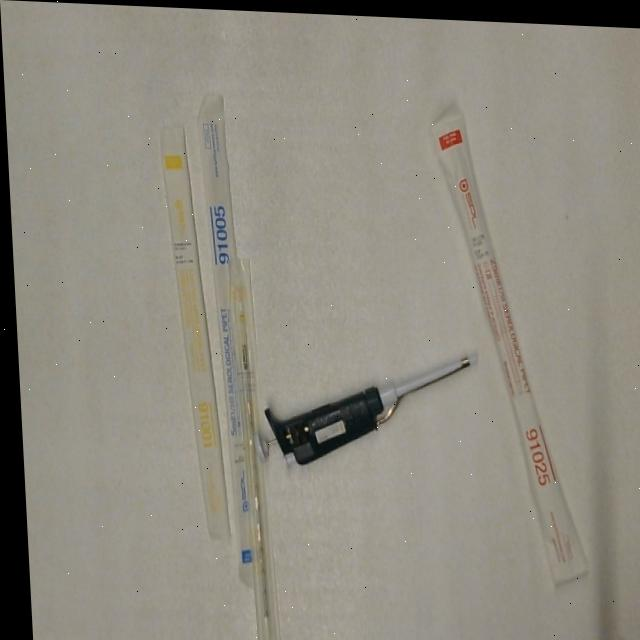Serelogical Pipet 1 mL - Sealed: (156, 120, 228, 541), (224, 247, 277, 640)
Serelogical Pipet 25 mL - Sealed: (427, 107, 584, 585)
Serelogical Pipet 5 mL - Sealed: (196, 87, 268, 588)
Single Channel Pipettor: (243, 335, 483, 472)
